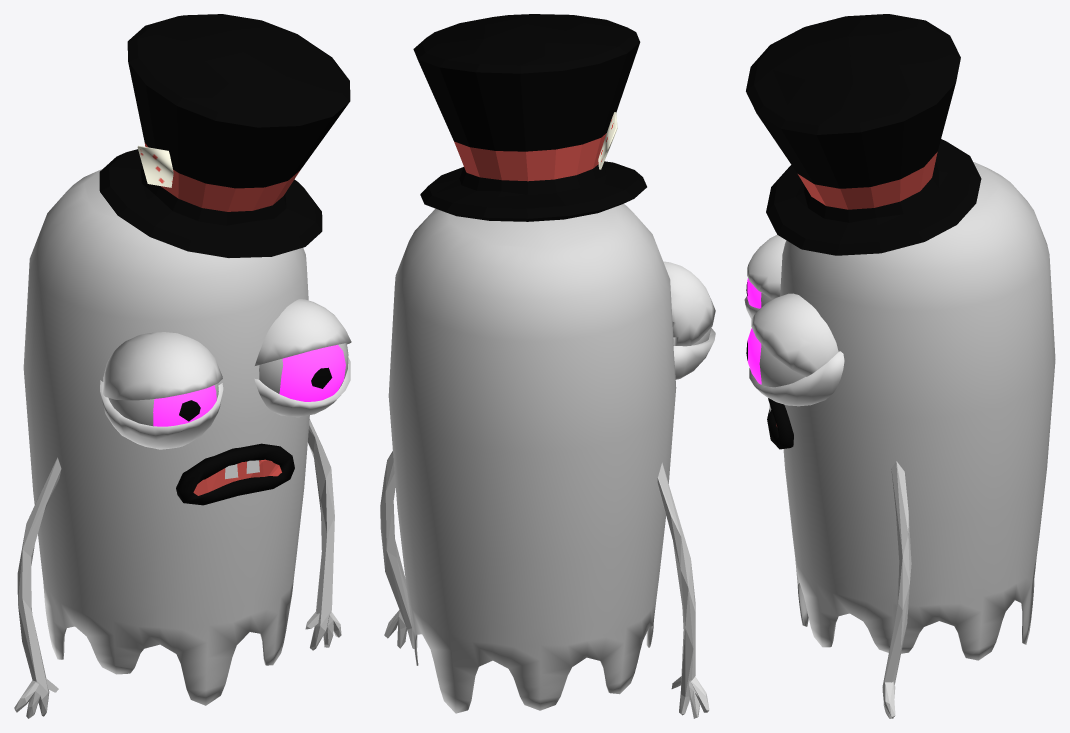
Rendered from Ghost_idle_final.fbx.
3 renders of one model, left to right at view 1: azimuth 30°, elevation 25°; view 2: azimuth 150°, elevation 25°; view 3: azimuth 270°, elevation 25°, orthographic. The views are drawn at different scales.
Visible parts, largest first — view 1: body, hat, eye.002, mouth, arm, arm.001; view 2: body, hat, eye.002, arm, arm.001; view 3: body, hat, eye.002, arm.001, mouth.
Part boxes in pixels (x1=…): body: x1=23, y1=169, x2=309, y2=705; hat: x1=99, y1=14, x2=350, y2=257; eye.002: x1=100, y1=299, x2=351, y2=449; mouth: x1=176, y1=443, x2=294, y2=505; arm: x1=14, y1=457, x2=61, y2=718; arm.001: x1=305, y1=419, x2=341, y2=650; body: x1=388, y1=204, x2=676, y2=713; hat: x1=413, y1=14, x2=646, y2=221; eye.002: x1=663, y1=261, x2=715, y2=379; arm: x1=657, y1=462, x2=709, y2=718; arm.001: x1=380, y1=451, x2=417, y2=648; body: x1=780, y1=162, x2=1055, y2=660; hat: x1=746, y1=14, x2=981, y2=255; eye.002: x1=744, y1=235, x2=844, y2=406; arm.001: x1=882, y1=461, x2=911, y2=718; mouth: x1=767, y1=398, x2=793, y2=449.
Bounding box in the file's own units: 255 × 480 × 219.
